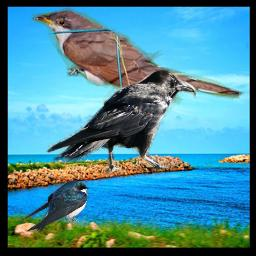Crow: (45, 68, 196, 178)
Cuckoo: (30, 5, 246, 110)
Swallow: (17, 180, 89, 232)
